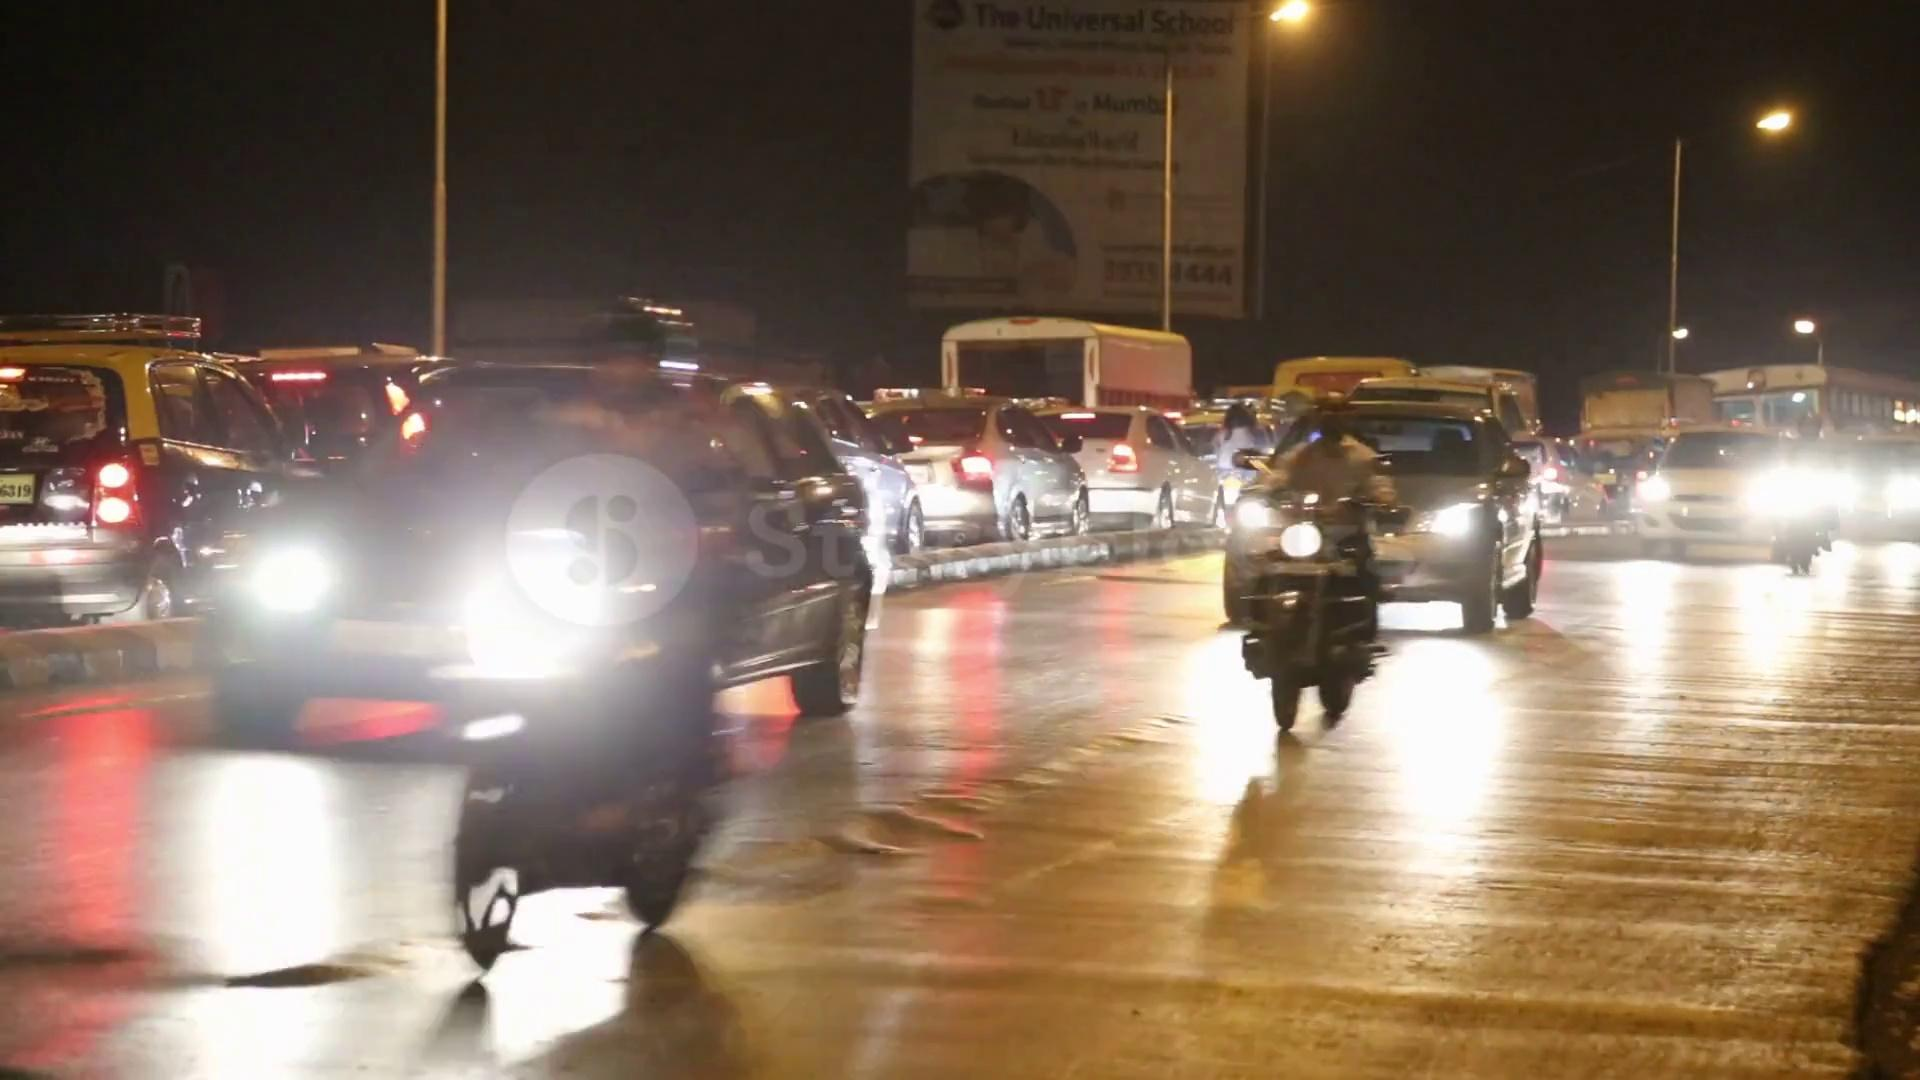rider: (429, 291, 731, 953), (1219, 381, 1386, 741), (1766, 403, 1840, 593)
without_helmate: (1301, 389, 1361, 447)
